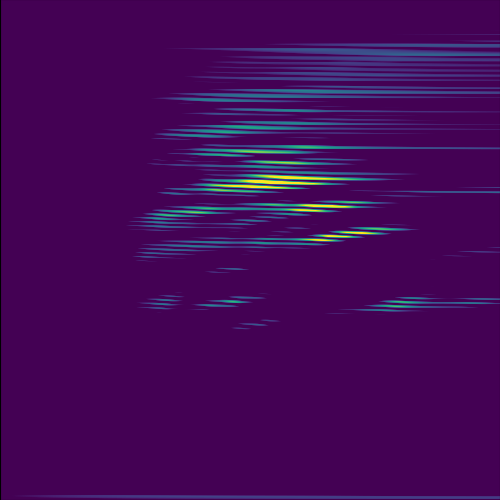semblance: (204, 170, 356, 194), (209, 138, 326, 167), (300, 220, 404, 247), (279, 197, 374, 219)
